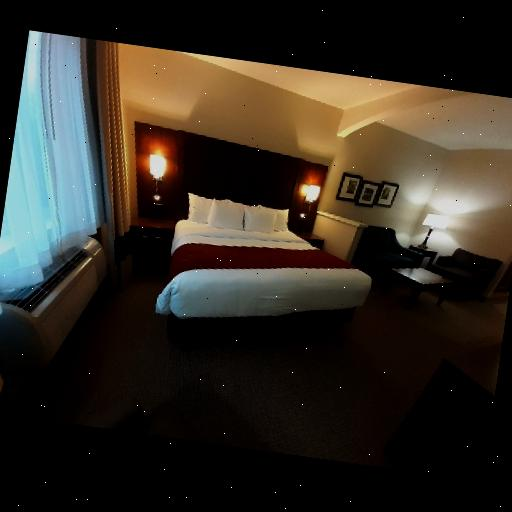clean_bed: (166, 133, 367, 350)
lamp: (413, 207, 456, 257)
organised_pillow: (180, 184, 301, 246)
organized table: (388, 252, 460, 314)
